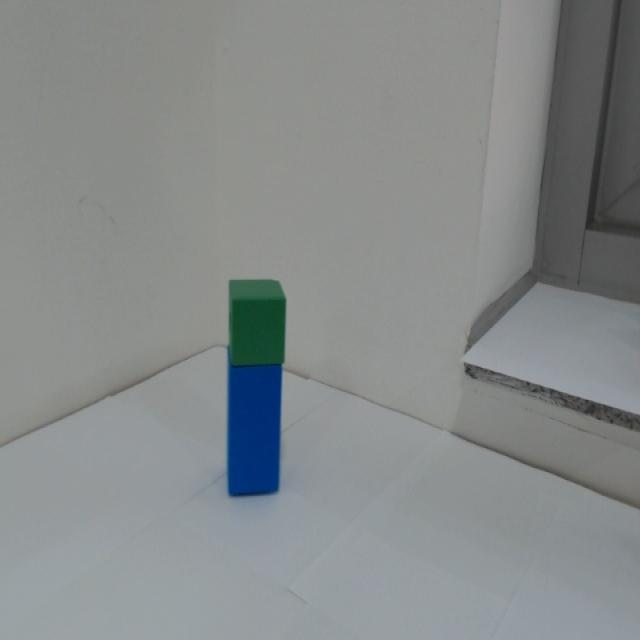cube: (225, 268, 303, 370)
